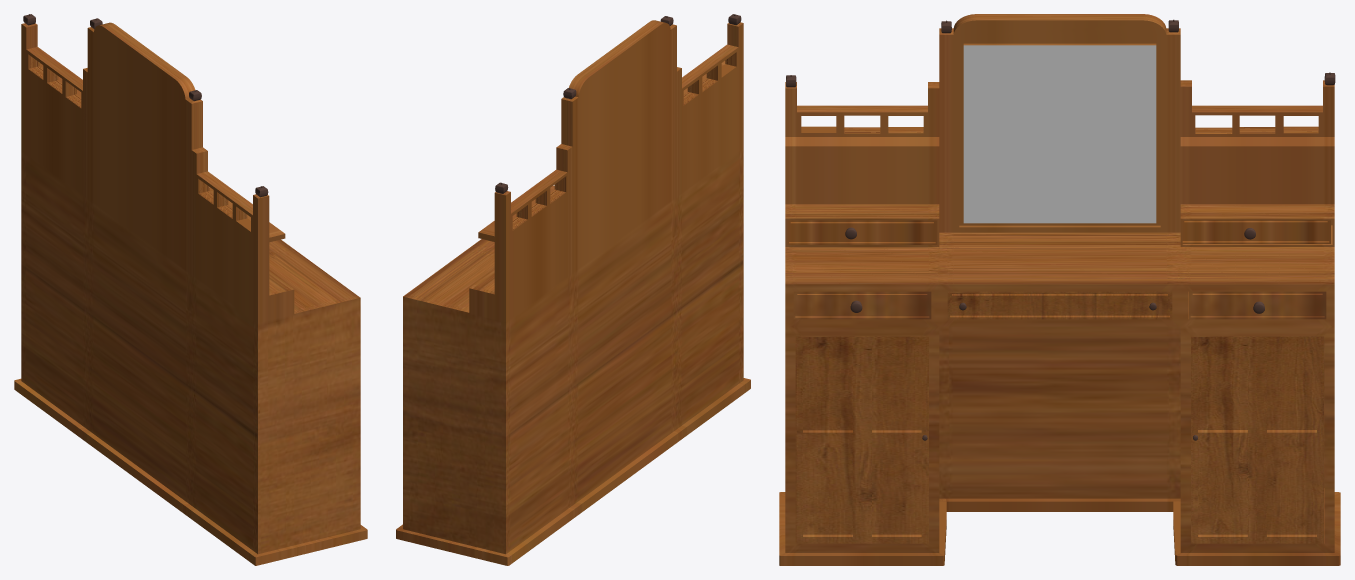
File: Meja cermin.fbx
3 renders of one model, left to right at view 1: azimuth 30°, elevation 25°; view 2: azimuth 150°, elevation 25°; view 3: azimuth 270°, elevation 25°, orthographic. The views are drawn at different scales.
Visible parts, largest first — view 1: Cube; view 2: Cube; view 3: Cube, Cube.010, Cube.001, Cube.002, Cube.005, Cube.003, Cube.004, Cube.006, Cube.007.
Boxes of the visible parts, x1,y1,x2,y2 form: Cube: (14, 22, 367, 565); Cube: (396, 20, 750, 565); Cube: (779, 14, 1340, 565); Cube.010: (963, 45, 1156, 223); Cube.001: (795, 336, 928, 543); Cube.002: (1191, 336, 1323, 543); Cube.005: (947, 291, 1172, 319); Cube.003: (793, 291, 931, 319); Cube.004: (1189, 291, 1326, 319); Cube.006: (787, 220, 937, 244); Cube.007: (1182, 220, 1330, 243).
Bounding box in the file's own units: 219 × 788 × 816.
Materials: 4 (1 with a texture image).
